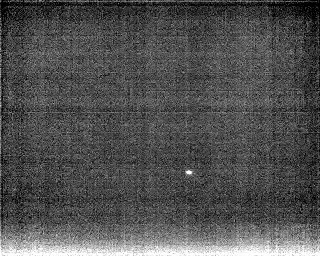AIRPLANE: (183, 167, 195, 178)
